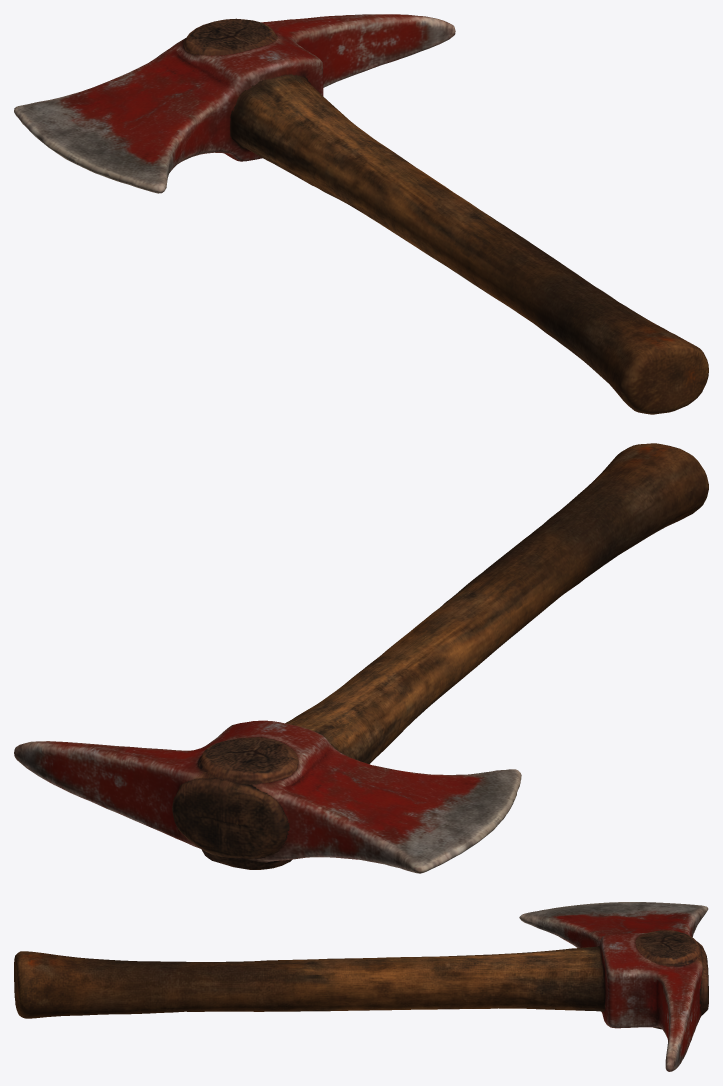
The model's file is fire-axe.glb.
The picture shows the model from 3 angles, top to bottom: view 1: azimuth 30°, elevation 25°; view 2: azimuth 150°, elevation 25°; view 3: azimuth 270°, elevation 25°; orthographic projection. The views are drawn at different scales.
Size of the model in its own units: 0.5552 by 0.1203 by 1.01.
1 material, 1 textured.
